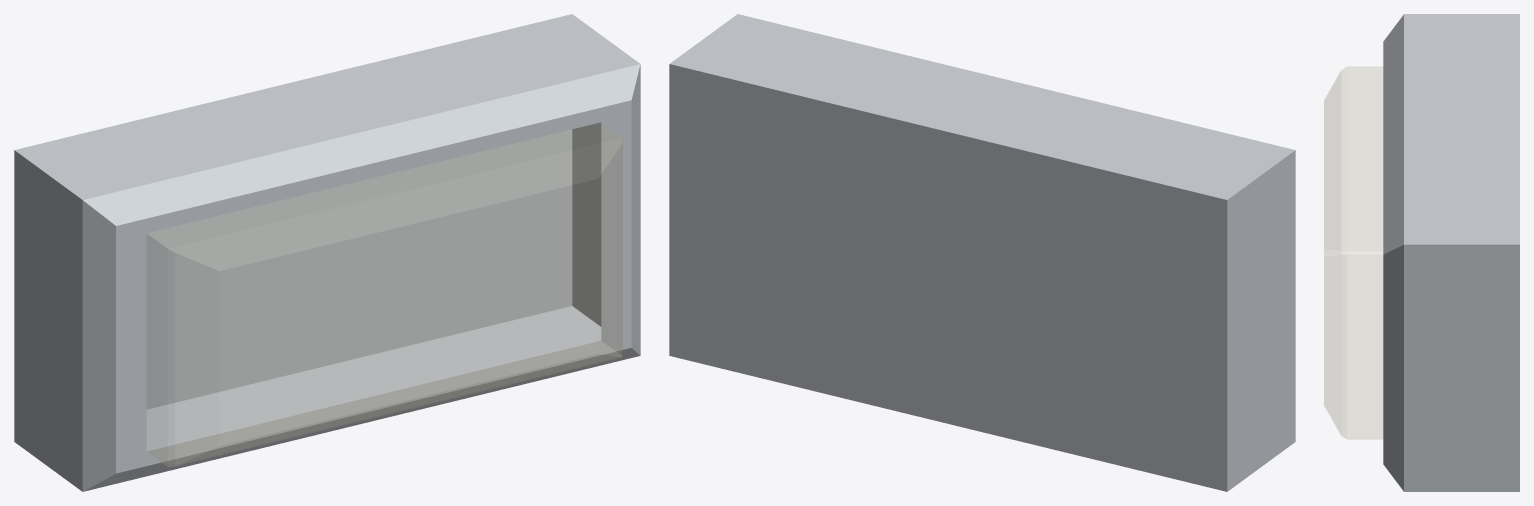
File: light.glb
3 renders of one model, left to right at view 1: azimuth 30°, elevation 25°; view 2: azimuth 150°, elevation 25°; view 3: azimuth 270°, elevation 25°, orthographic. The views are drawn at different scales.
Parts seen in each view (by area): view 1: Light_wall; view 2: Light_wall; view 3: Light_wall.
Boxes of the visible parts, bbox=[...] form: Light_wall: bbox=[14, 14, 640, 491]; Light_wall: bbox=[669, 14, 1295, 491]; Light_wall: bbox=[1324, 14, 1519, 491].
Bounding box in the file's own units: 0.4 × 0.2 × 0.1435.
